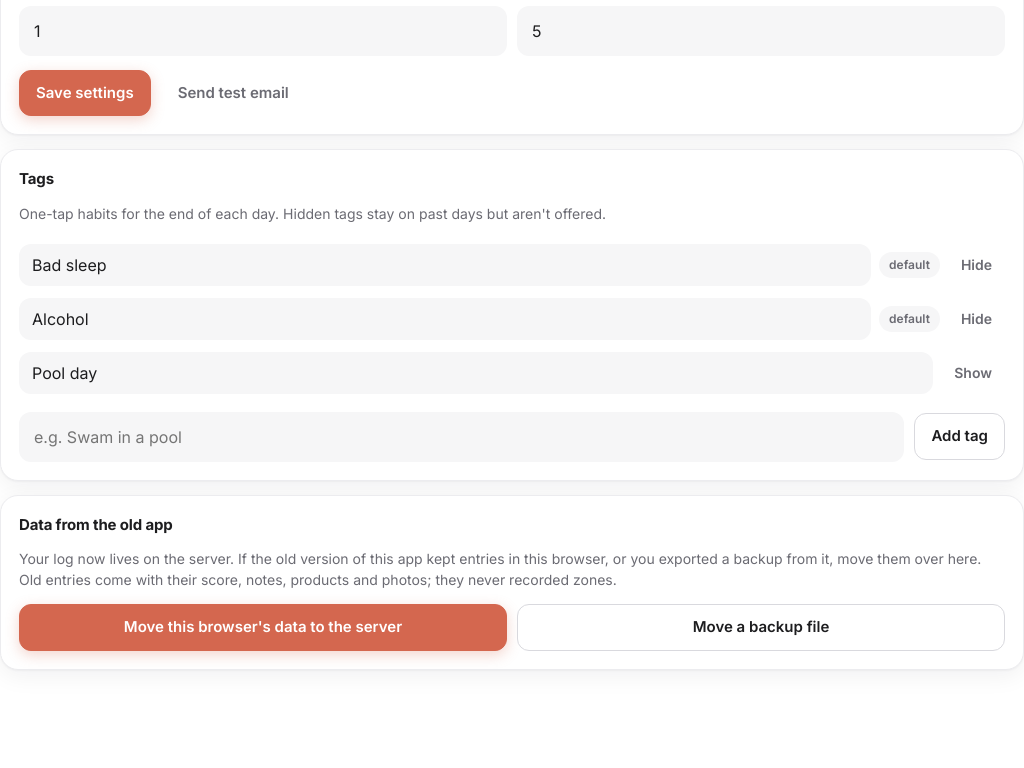
Scenario: Move this browser's data to the server › posts the stored data after confirming and shows the report
The width and height of the screenshot is (1024, 768).
(page scrolled)
Click the button "Move this browser's data to the server" at (263, 627), box top-left (19, 604), bottom-right (507, 650)
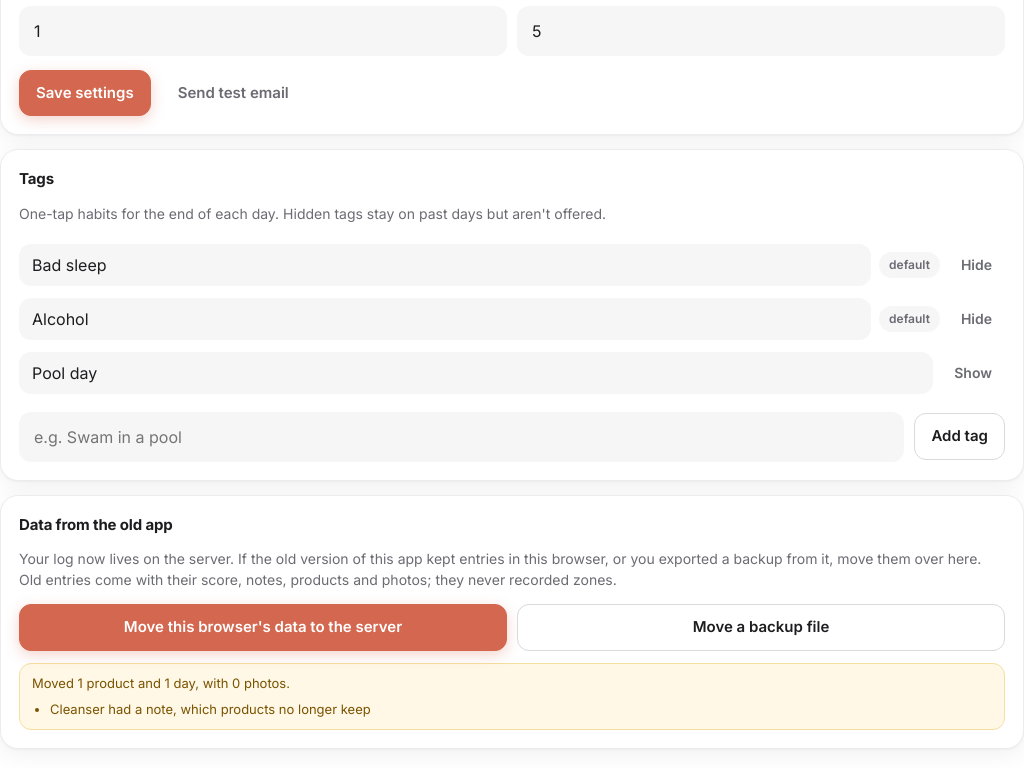
Result: the message named "Import report" shows "1 product" at top-left (78, 674), bottom-right (134, 690)
Result: the message named "Import report" shows "1 day" at top-left (164, 674), bottom-right (195, 690)
Result: the message named "Import report" shows "Cleanser had a note" at top-left (50, 701), bottom-right (371, 717)
